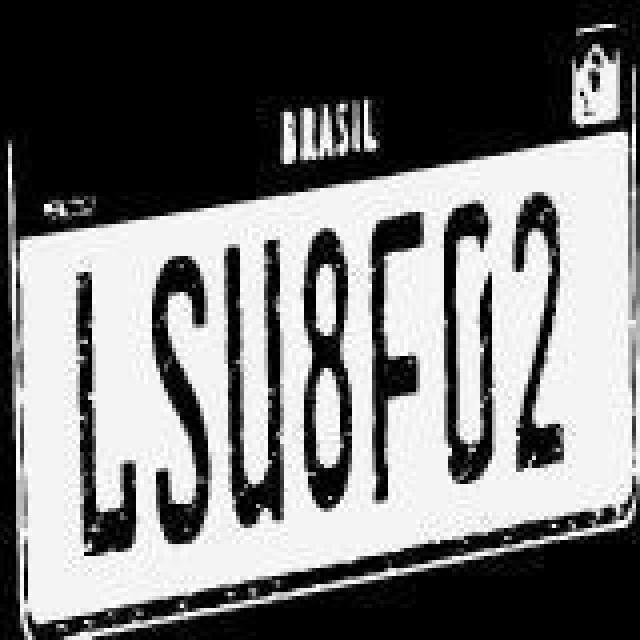2: (506, 194, 582, 478)
8: (300, 226, 364, 510)
D: (432, 196, 496, 492)
F: (360, 208, 432, 504)
L: (66, 268, 150, 564)
S: (150, 248, 210, 552)
U: (218, 226, 294, 526)
